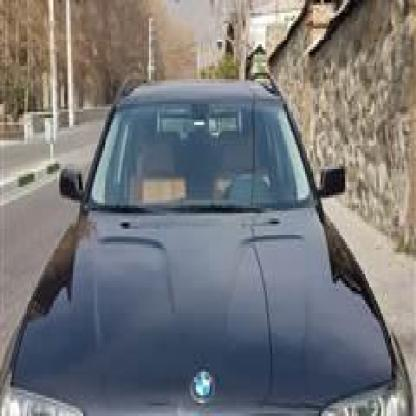Car: (0, 62, 413, 416)
